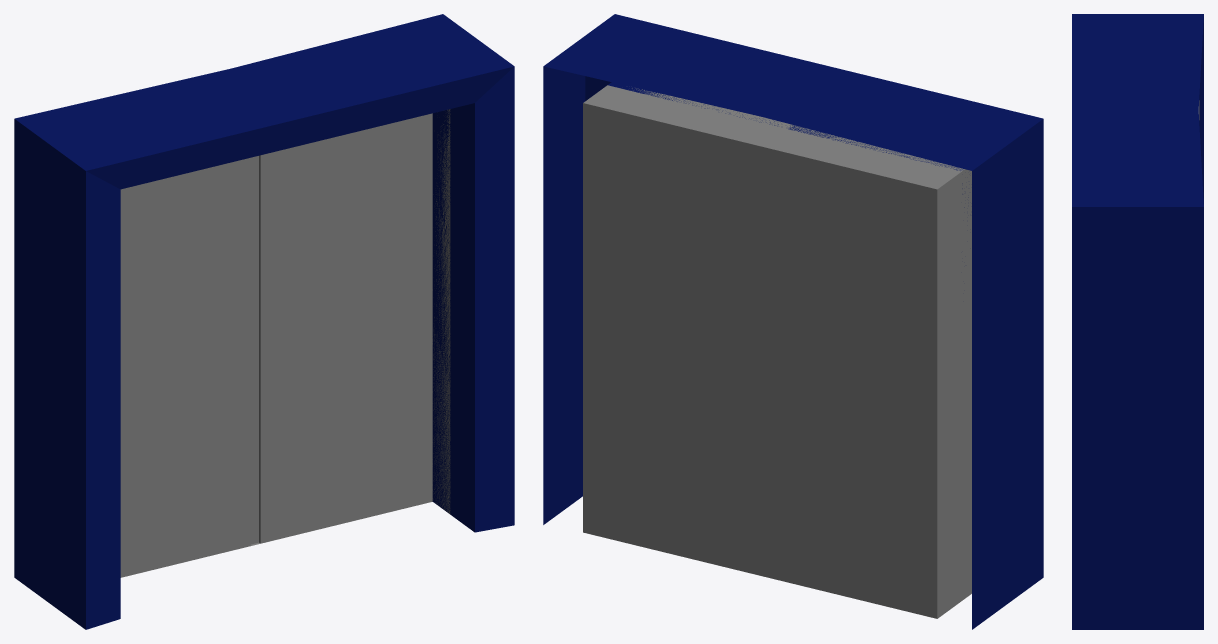
Rendered from Building01Door.fbx.
3 renders of one model, left to right at view 1: azimuth 30°, elevation 25°; view 2: azimuth 150°, elevation 25°; view 3: azimuth 270°, elevation 25°, orthographic. The views are drawn at different scales.
Visible parts, largest first — view 1: Door; view 2: Door; view 3: Door.
Boxes of the visible parts, x1,y1,x2,y2 form: Door: (14, 14, 514, 629); Door: (543, 14, 1043, 629); Door: (1072, 14, 1203, 629).
Size of the model in its own units: 597 by 610 by 173.
